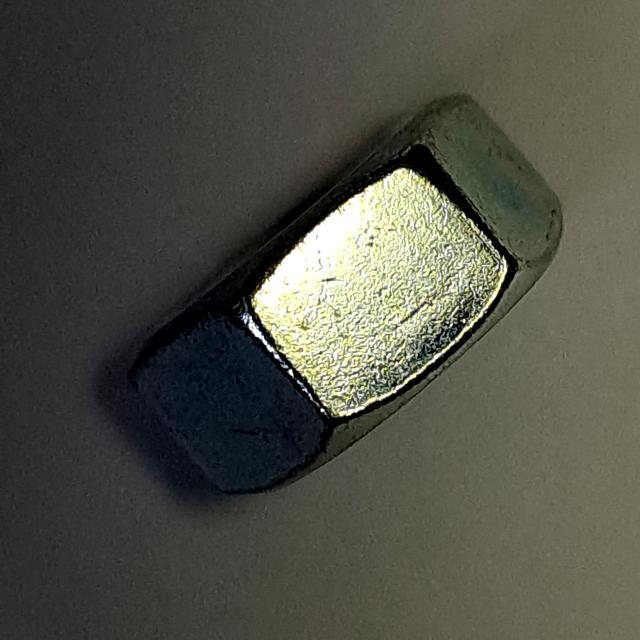Side_Excellent: (111, 78, 578, 511)
